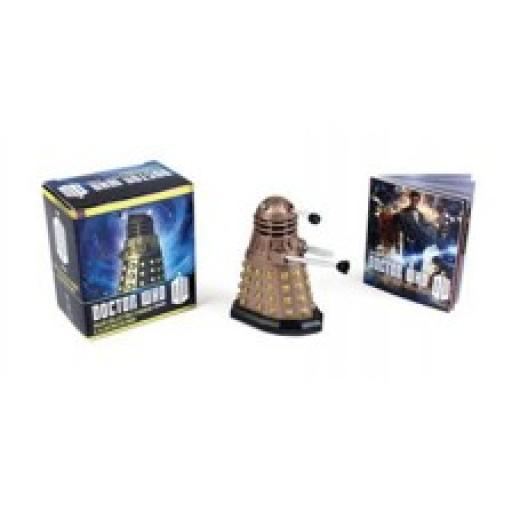dalek: (228, 191, 352, 351), (110, 209, 175, 312)
